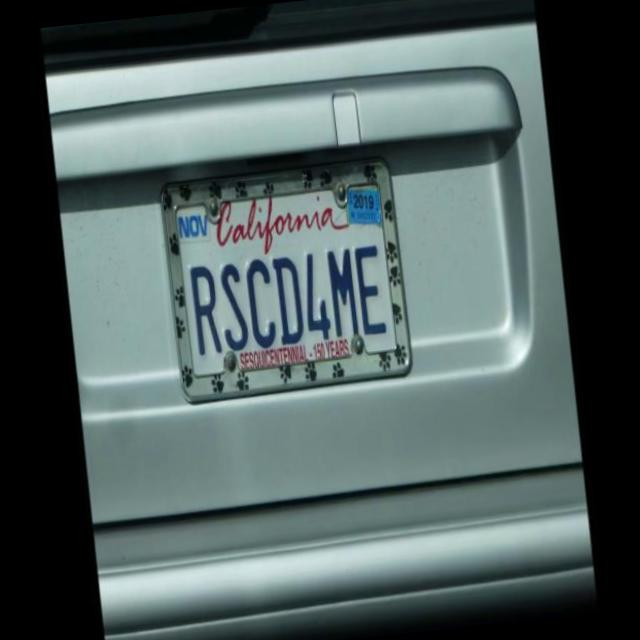LicensePlate: (148, 155, 416, 407)
